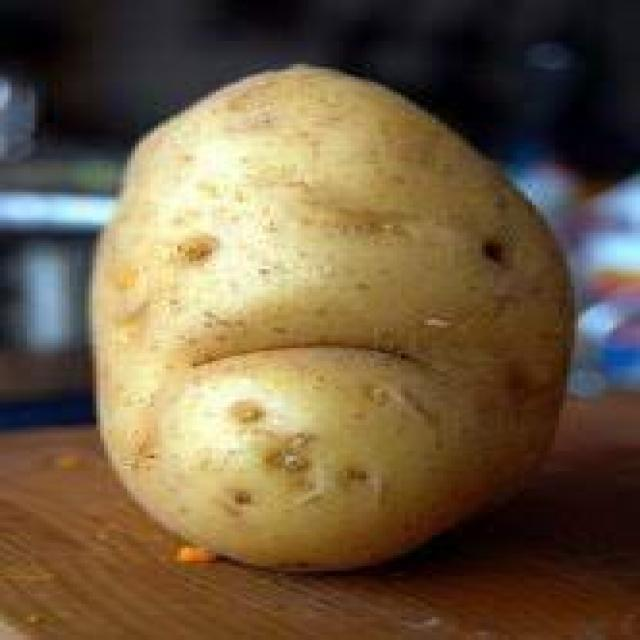potato: (83, 62, 574, 570)
